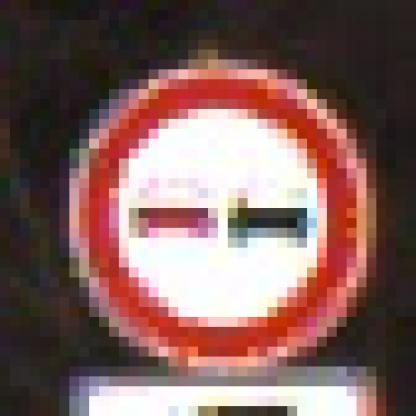No Overtaking: (51, 51, 368, 368)
